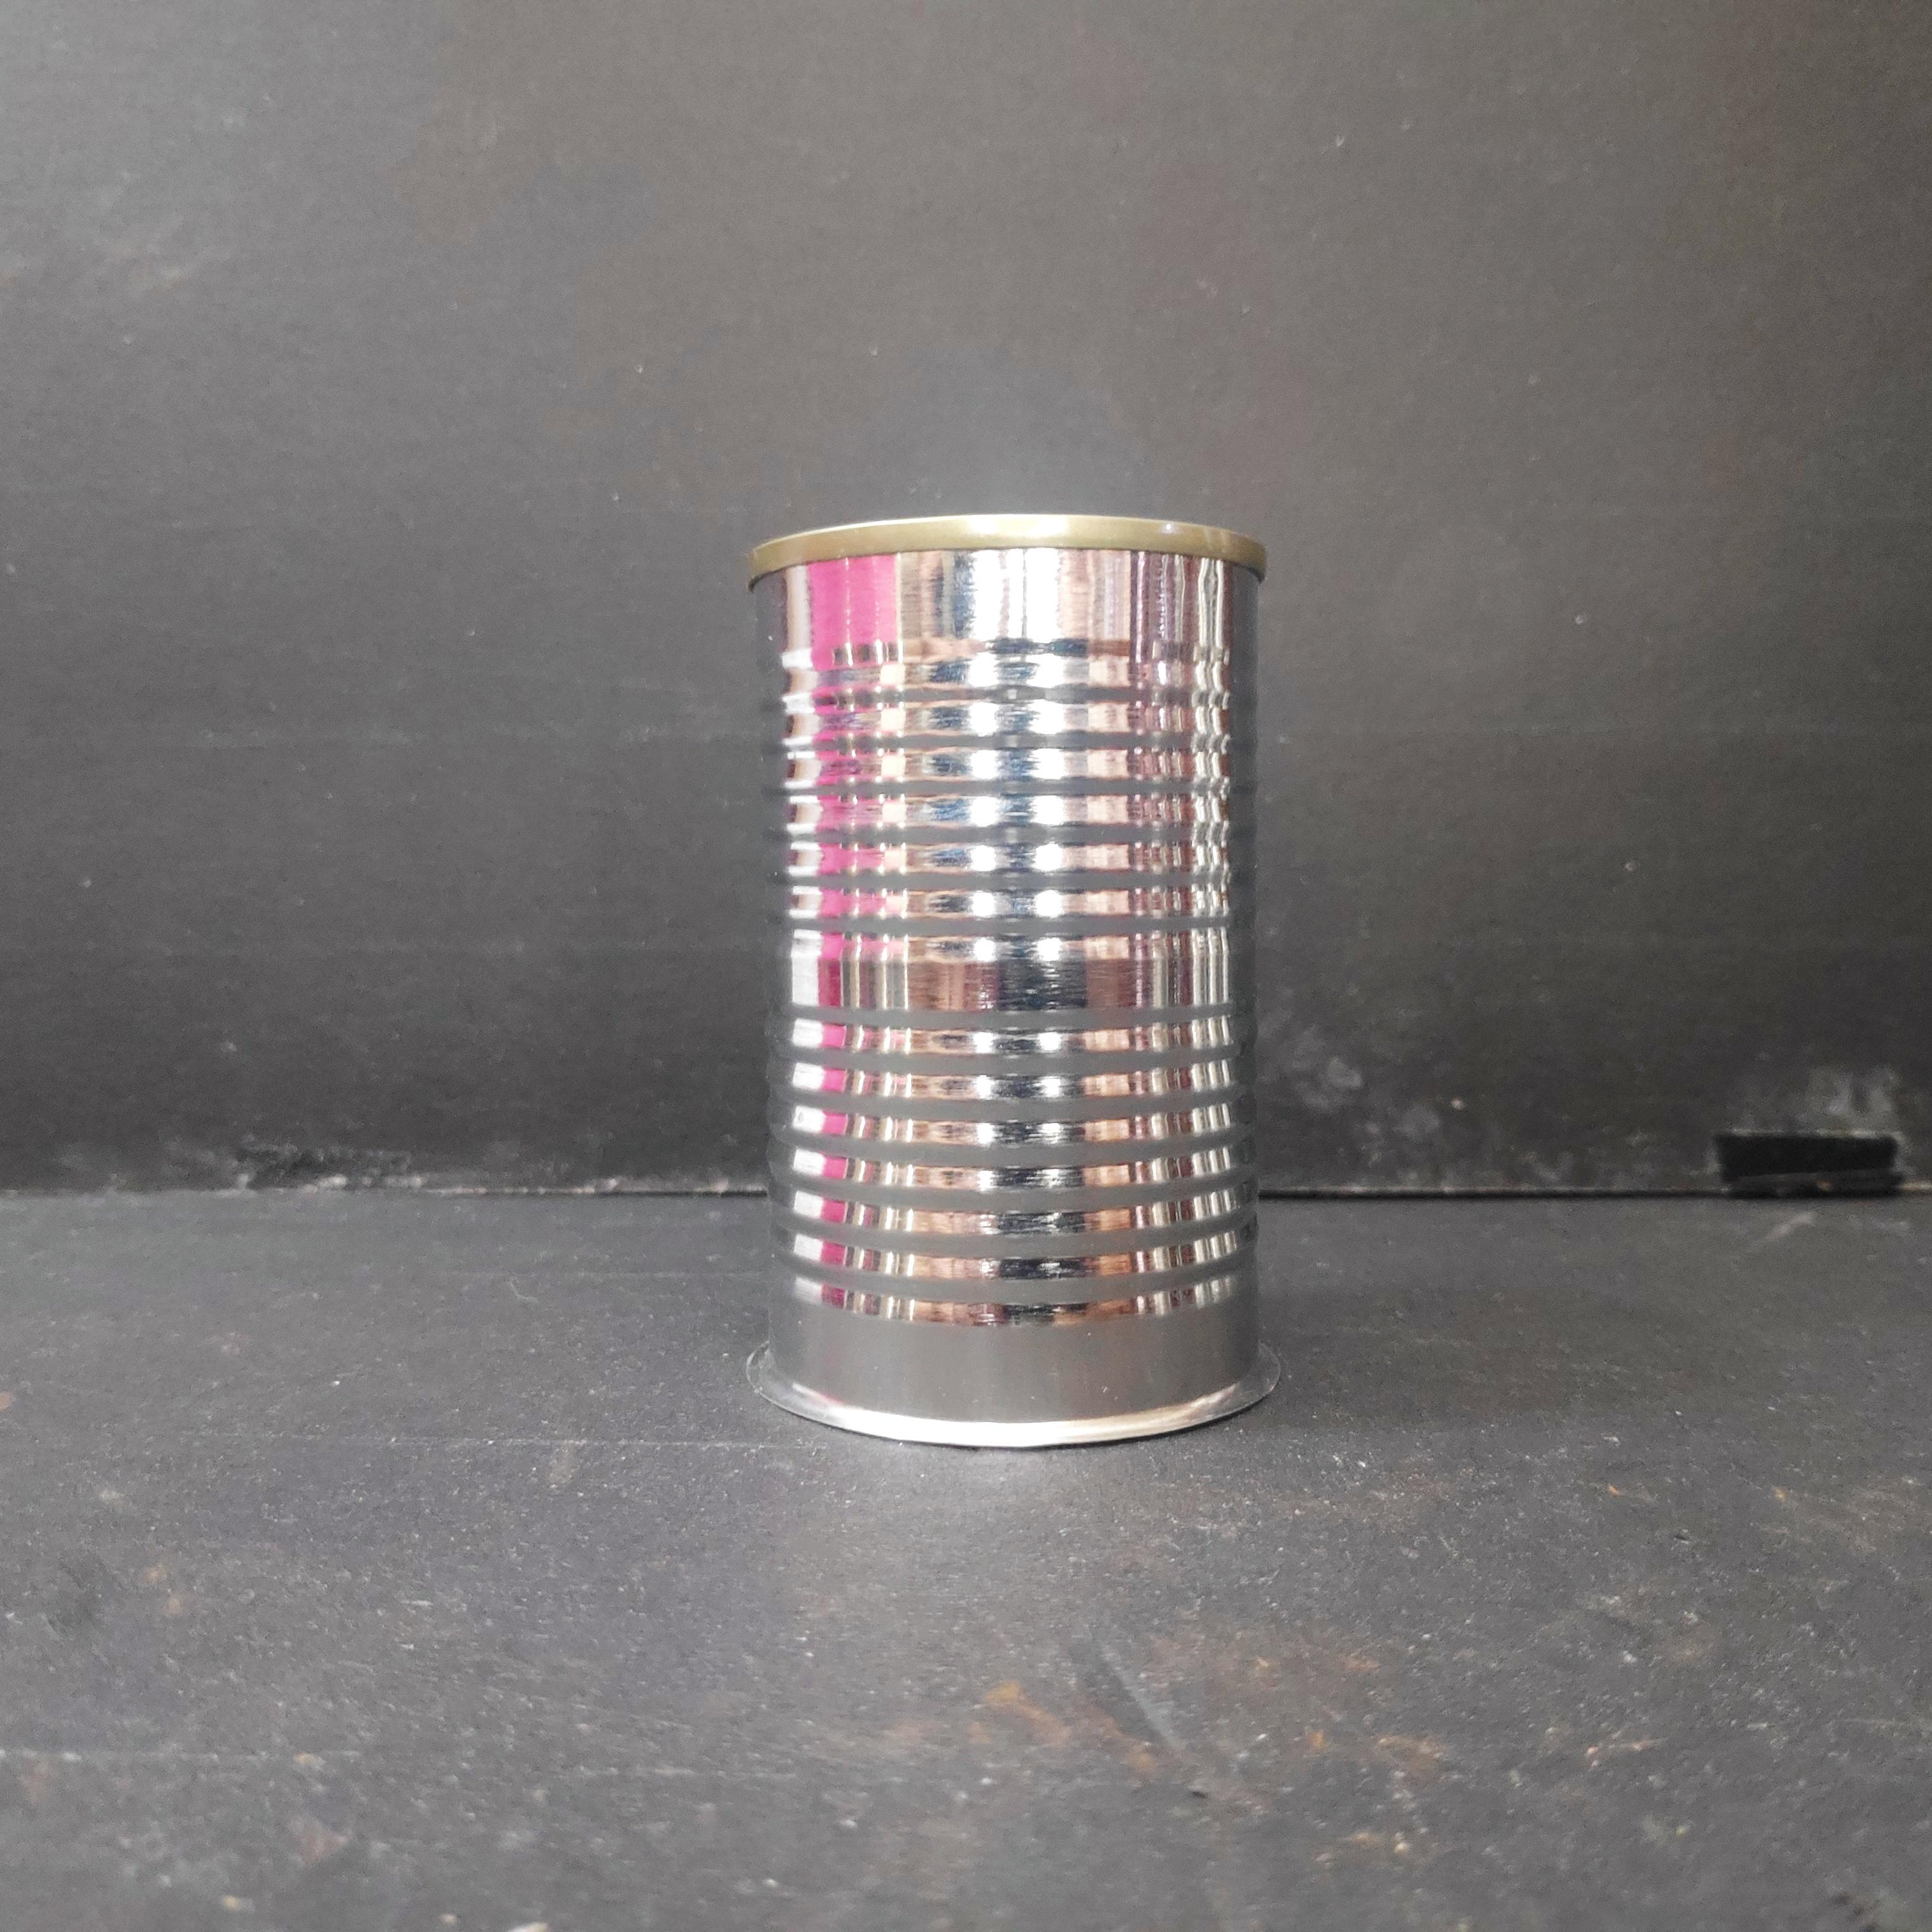No defect: (733, 505, 1284, 1457)
